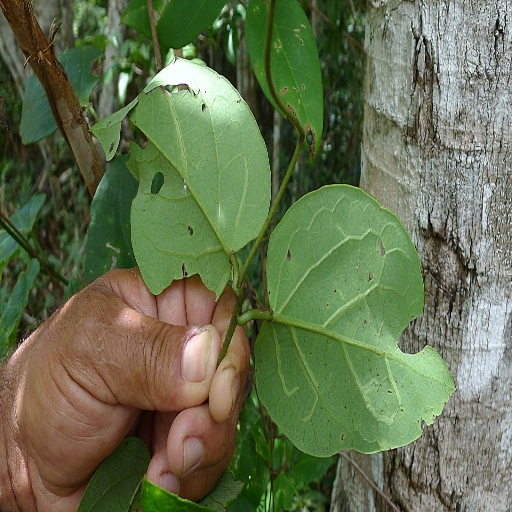hand: (0, 271, 249, 484)
